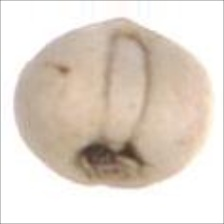L5: (101, 31, 152, 147), (68, 137, 152, 190), (93, 13, 156, 38)
L6: (12, 14, 215, 191)
